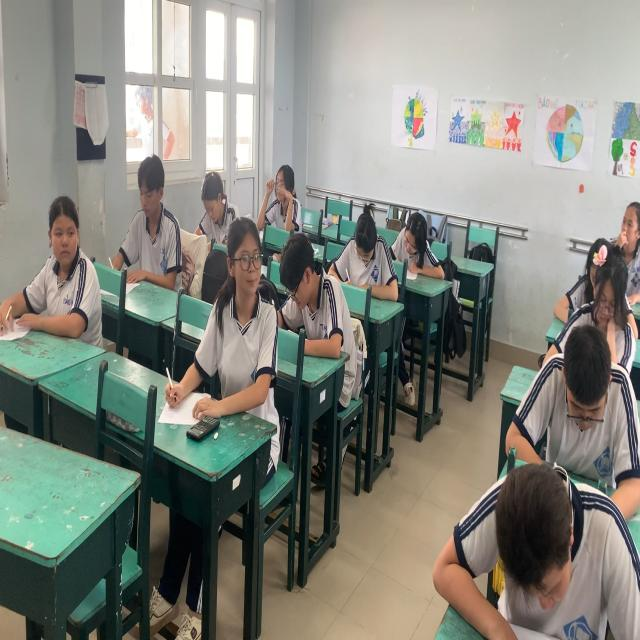cheating: (217, 216, 276, 416), (35, 185, 101, 326)
not_cheating: (490, 465, 594, 630), (544, 330, 629, 475), (134, 154, 188, 282), (570, 240, 632, 340), (270, 226, 326, 323), (394, 202, 435, 278), (352, 206, 384, 296), (196, 167, 235, 236), (262, 164, 305, 219)
